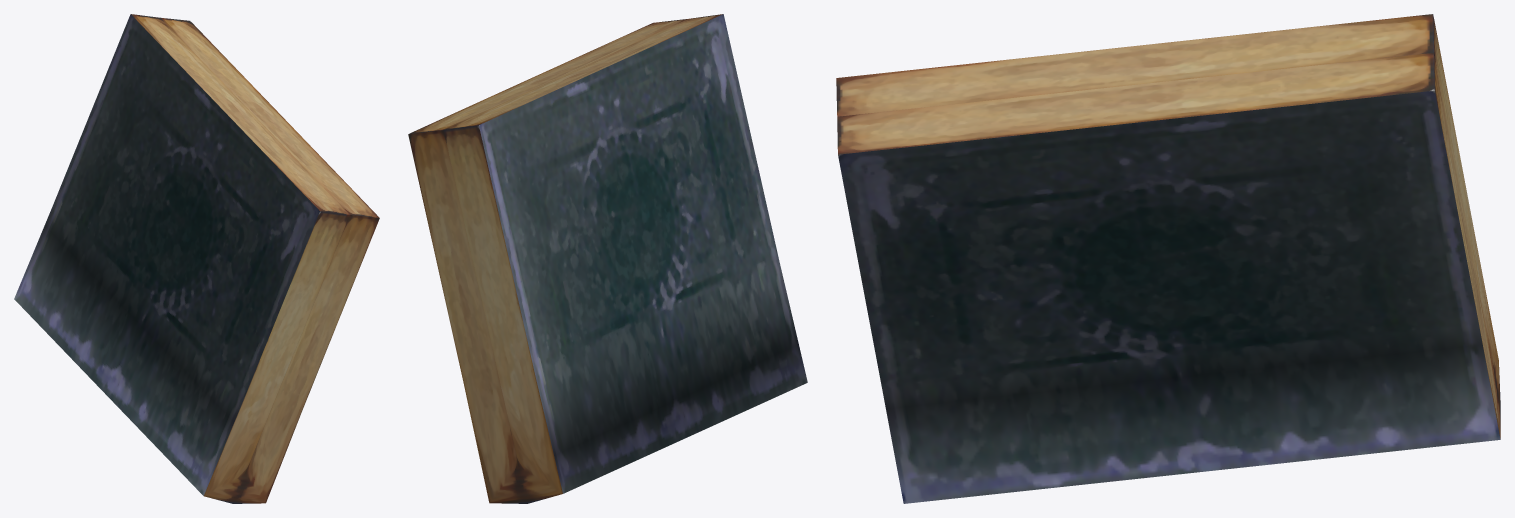
File: BookAnimation_001.fbx
3 views of the same model, side by side, from view 1: azimuth 30°, elevation 25°; view 2: azimuth 150°, elevation 25°; view 3: azimuth 270°, elevation 25° (orthographic). The views are drawn at different scales.
Visible parts, largest first — view 1: pCube1; view 2: pCube1; view 3: pCube1.
Boxes of the visible parts, x1,y1,x2,y2 form: pCube1: (14, 14, 379, 503); pCube1: (408, 14, 807, 503); pCube1: (836, 14, 1500, 503).
Bounding box in the file's own units: 0.6289 × 1.27 × 1.47.
